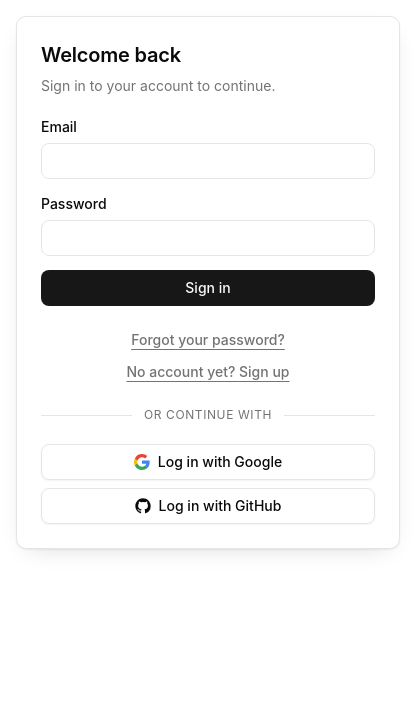
Scenario: LoginScreen › blocks sign-up when the repeated password mismatches
Click the button "No account yet? Sign up" at {"x": 208, "y": 372}, box [122,358,294,386]
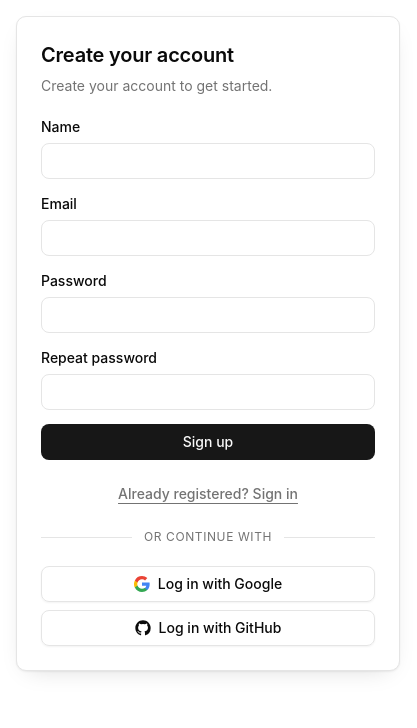
Type "Ada" into the field labelled "Name" at {"x": 208, "y": 161}, box [41,143,375,179]
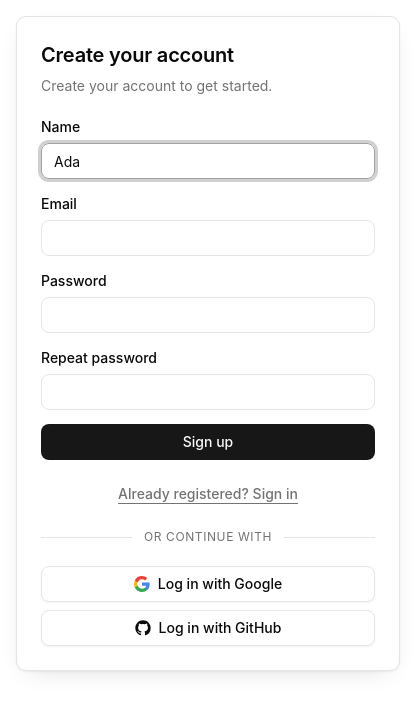
Type "ada@example.com" into the field labelled "Email" at {"x": 208, "y": 238}, box [41,220,375,256]
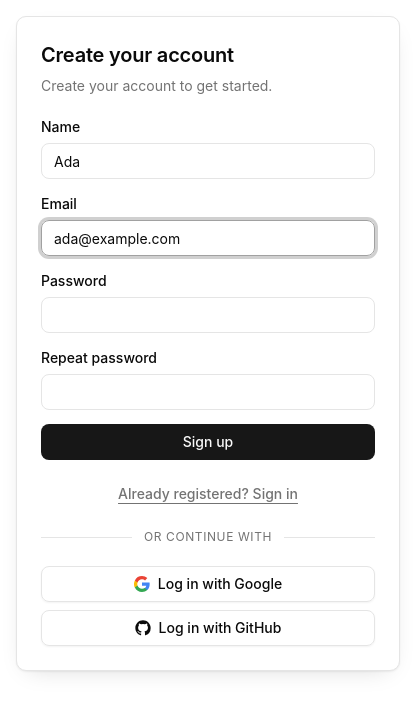
Type "password-1" into the password field labelled "Password" at {"x": 208, "y": 315}, box [41,297,375,333]
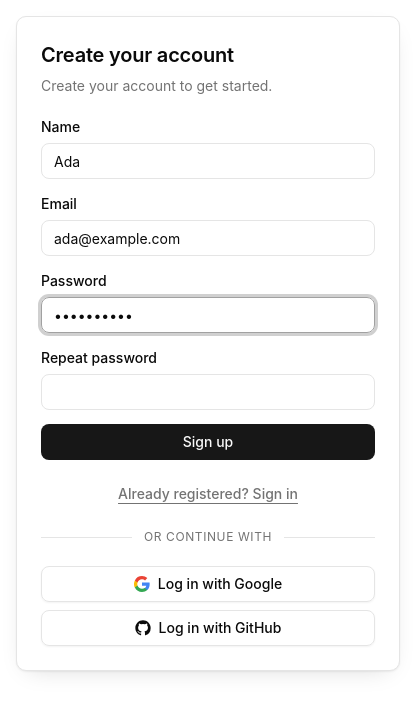
Type "password-2" into the password field labelled "Repeat password" at {"x": 208, "y": 392}, box [41,374,375,410]
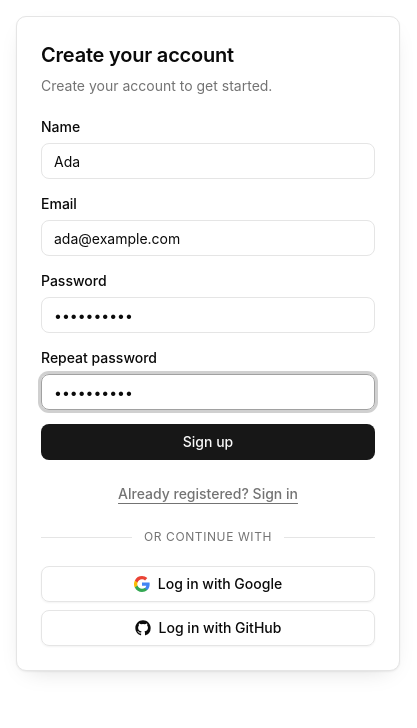
Click the button "Sign up" at {"x": 208, "y": 442}, box [41,424,375,460]
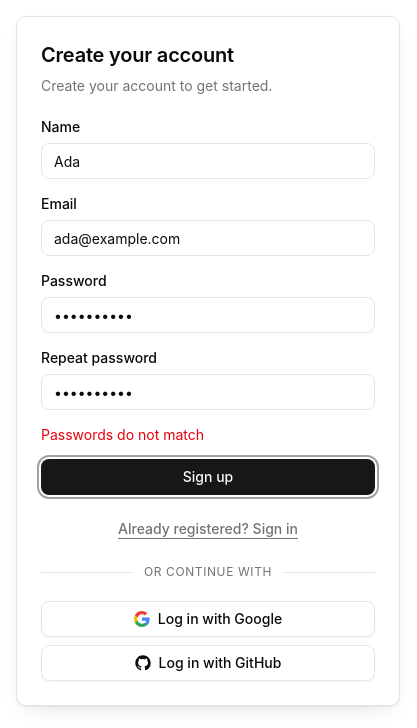
Expected: the message reads "Passwords do not match", [41,426,204,443]
